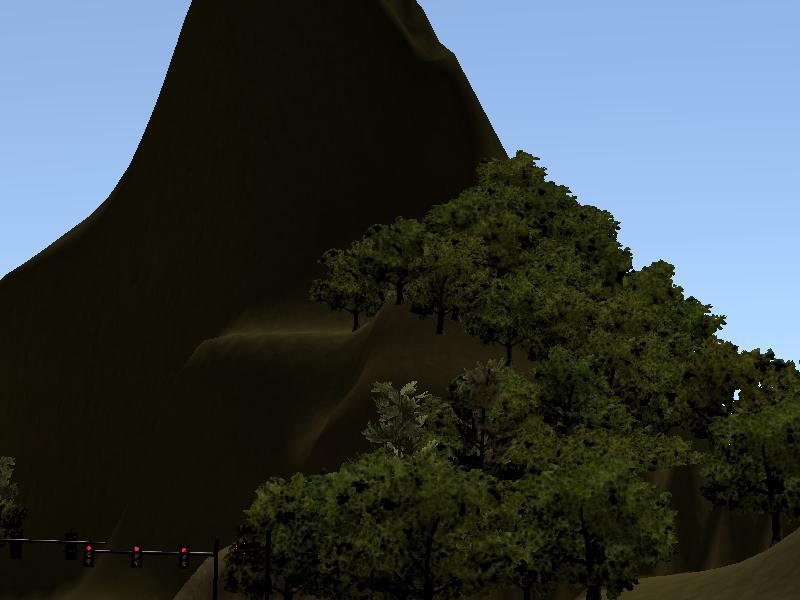Red: (179, 542, 189, 571), (130, 544, 141, 566), (86, 543, 95, 566)
